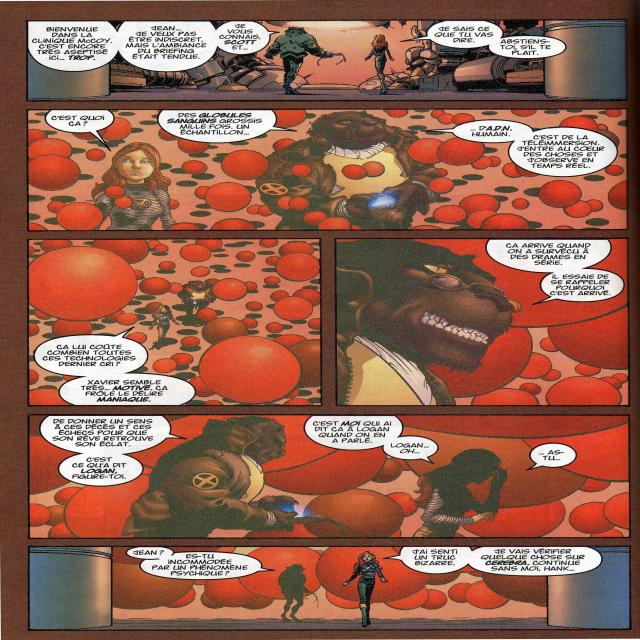comic_panel: (26, 414, 632, 539), (26, 108, 629, 232), (28, 545, 630, 631), (334, 236, 631, 406), (26, 238, 323, 407), (25, 19, 629, 101)
